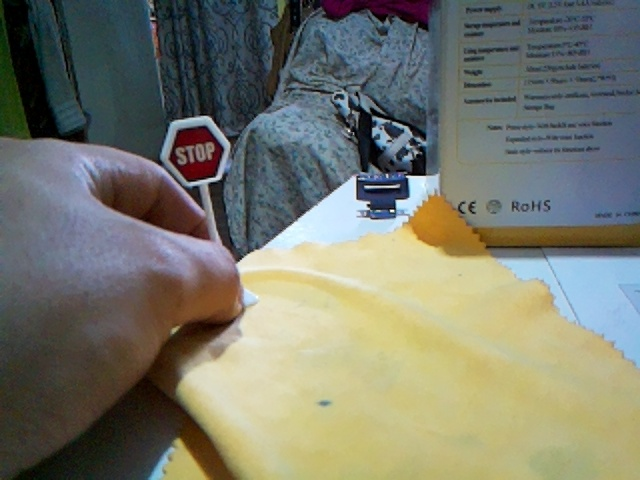stop_sign: (161, 116, 230, 186)
